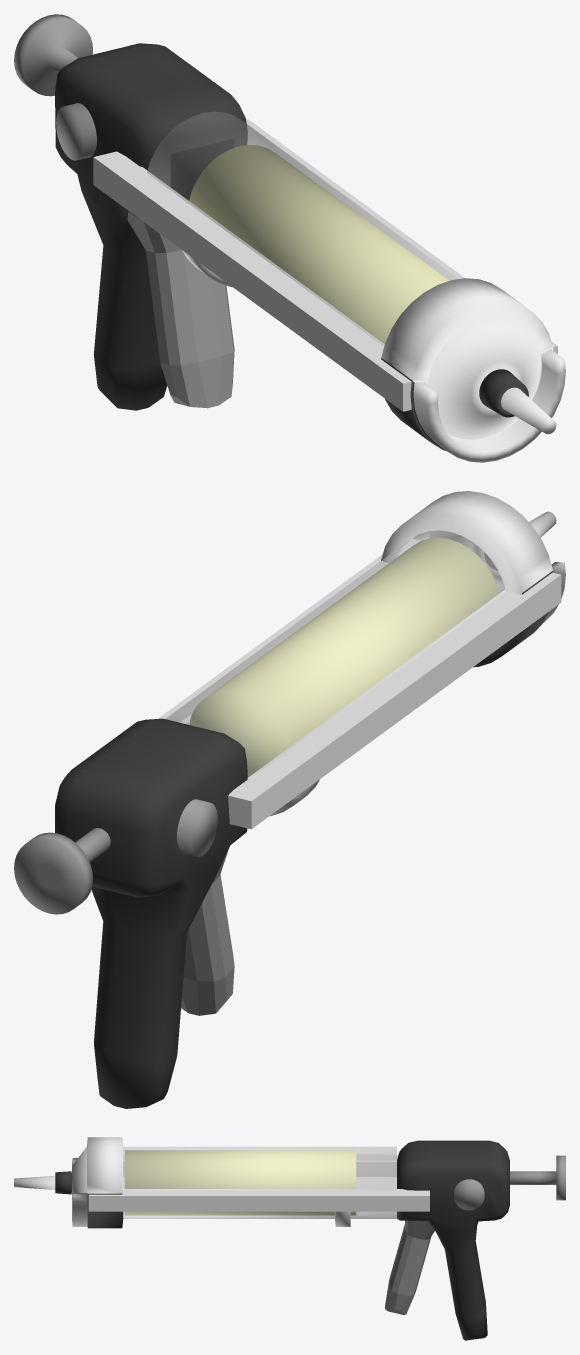
Rendered from GlueGun.fbx.
3 renders of one model, top to bottom at view 1: azimuth 30°, elevation 25°; view 2: azimuth 150°, elevation 25°; view 3: azimuth 270°, elevation 25°, orthographic. The views are drawn at different scales.
Visible parts, largest first — view 1: Cube.001; view 2: Cube.001; view 3: Cube.001.
Part boxes in pixels (left/top/right/bottom): Cube.001: left=14, top=14, right=565, bottom=462; Cube.001: left=14, top=491, right=565, bottom=1108; Cube.001: left=14, top=1137, right=565, bottom=1340.
Bounding box in the file's own units: 641 × 1404 × 3587.
2 materials, 1 textured.
